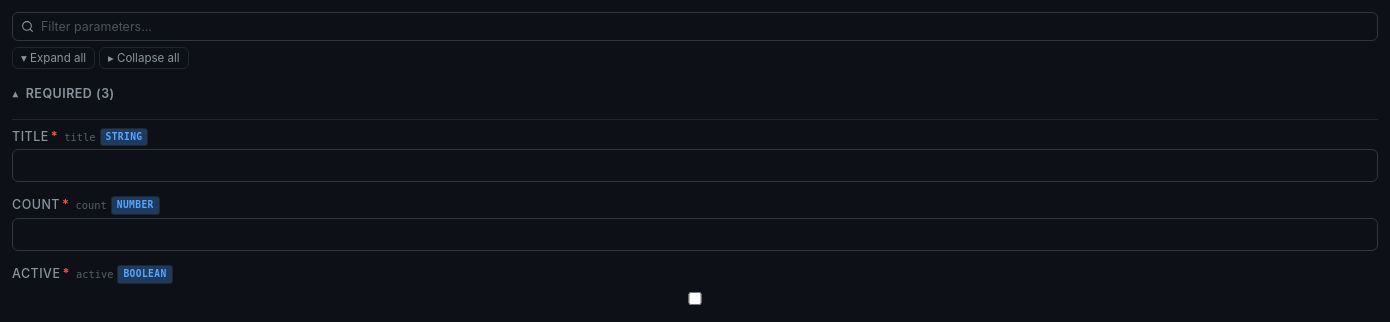
ParamEditor › filters parameters and shows no-match message
The width and height of the screenshot is (1390, 322).
Type "zzz" into the field with placeholder "Filter parameters..." at (695, 26), box [12,12,1378,41]
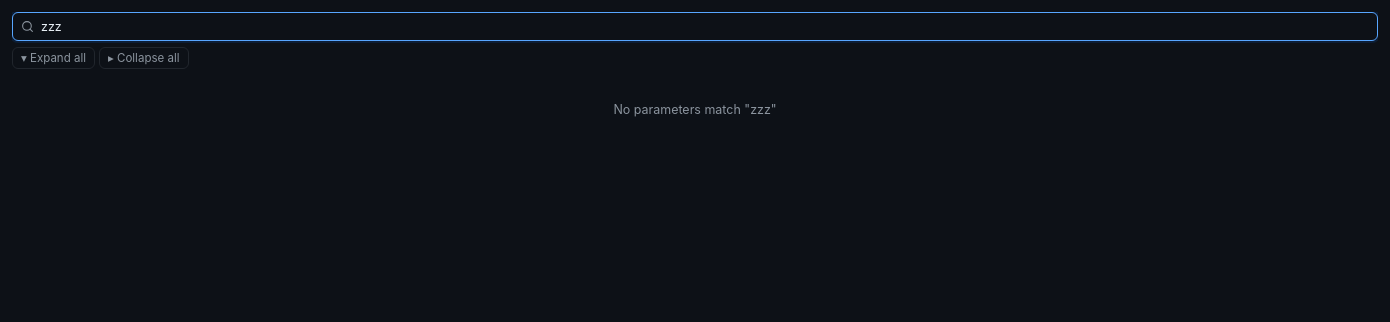
Expected: the text "No parameters match \"zzz\"" is shown, [613,102,777,117]
